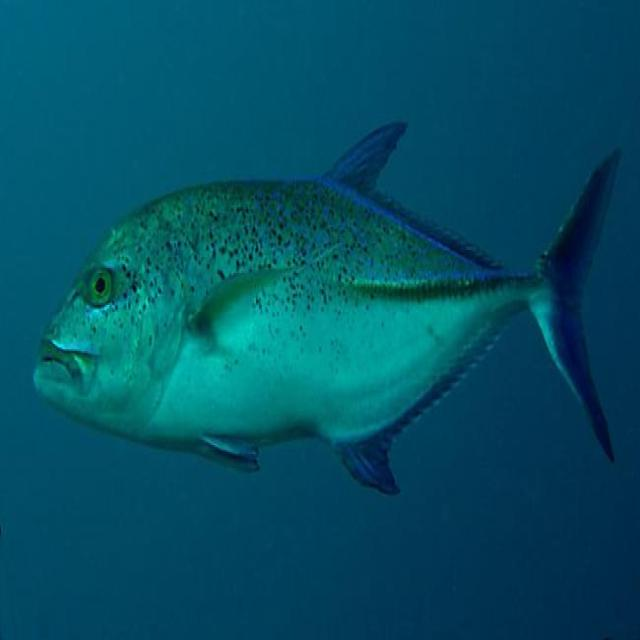ikan: (32, 117, 622, 496)
